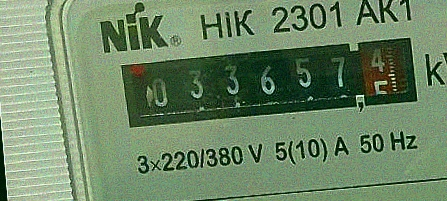0: (147, 72, 171, 111)
3: (185, 65, 207, 102), (221, 61, 242, 98)
4: (367, 44, 388, 75)
5: (290, 53, 315, 91)
6: (255, 61, 278, 98)
7: (327, 52, 348, 90)
screen: (108, 29, 426, 137)
